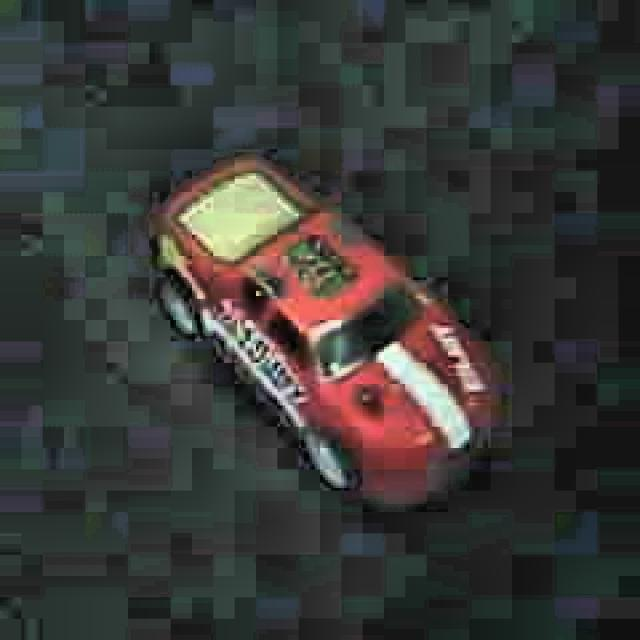car: (158, 151, 500, 505)
